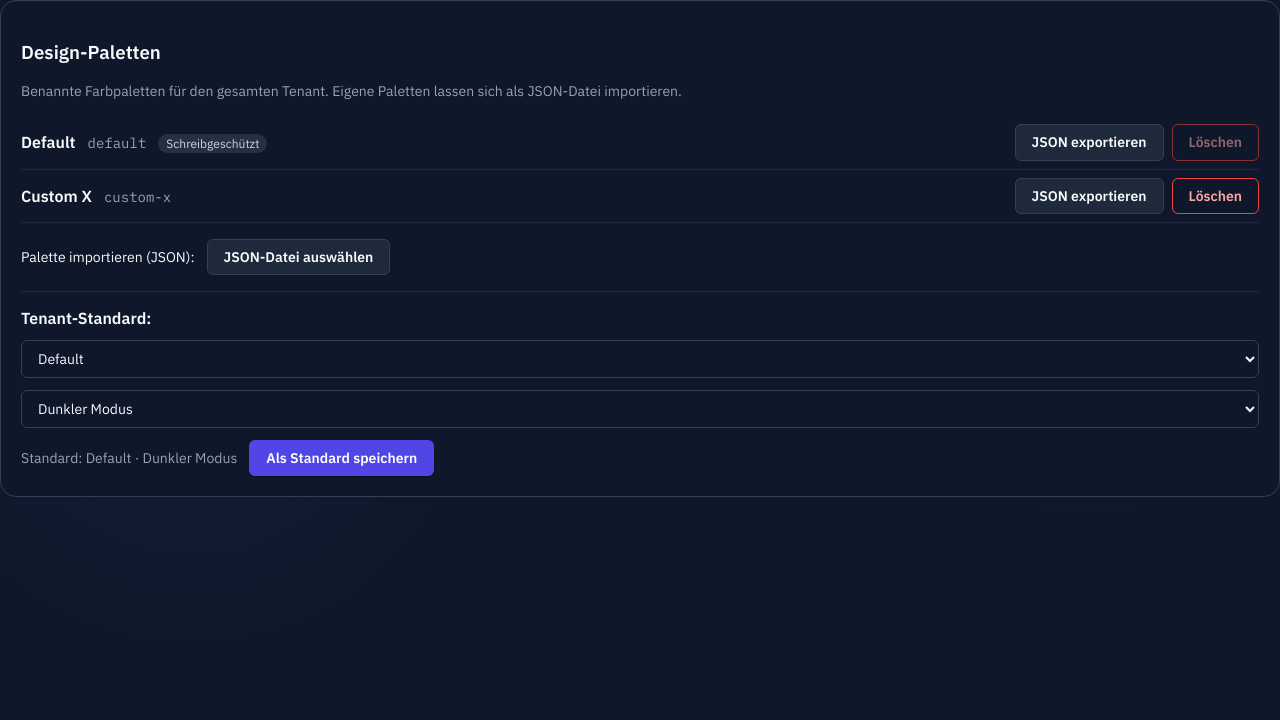
it: ThemeManagementSection › tenant default › states the save's target visibly and in its accessible name
Expected: the list item with test id "theme-row-default" is shown, 21,116 -> 1259,170
Expected: the text with test id "tenant-default-target" reads "Standard: Default · Dunkler Modus", 21,449 -> 237,467
Select "Custom X" in the dropdown with test id "tenant-default-palette-select" at {"x": 640, "y": 359}, box 21,340 -> 1259,378
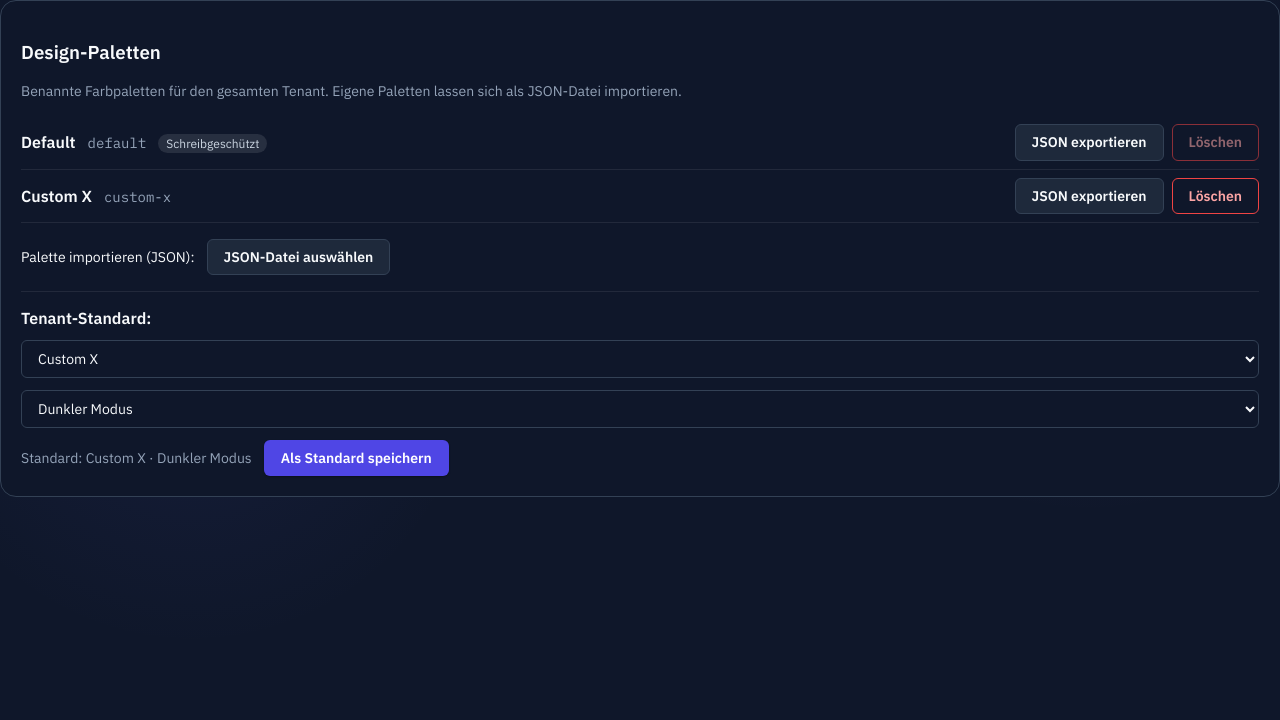
Select "Heller Modus" in the dropdown with test id "tenant-default-mode-select" at {"x": 640, "y": 409}, box 21,390 -> 1259,428
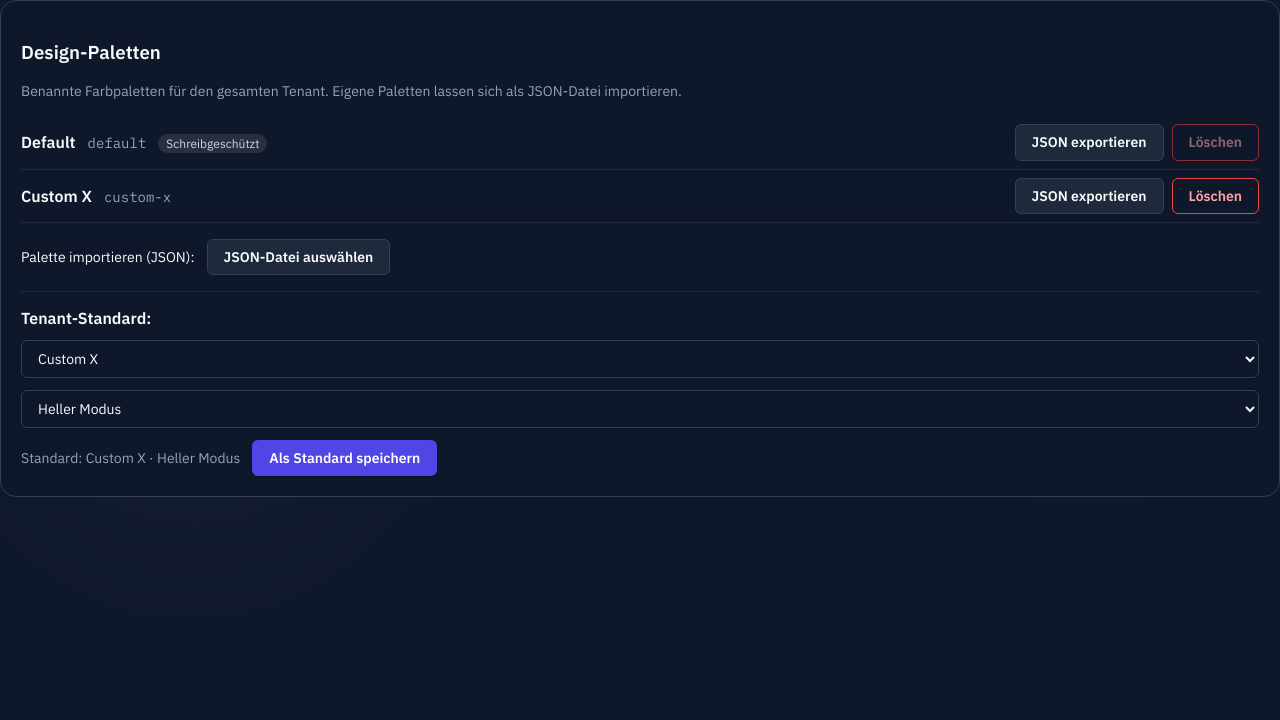
Result: the text with test id "tenant-default-target" reads "Standard: Custom X · Heller Modus" at 21,449 -> 240,467
